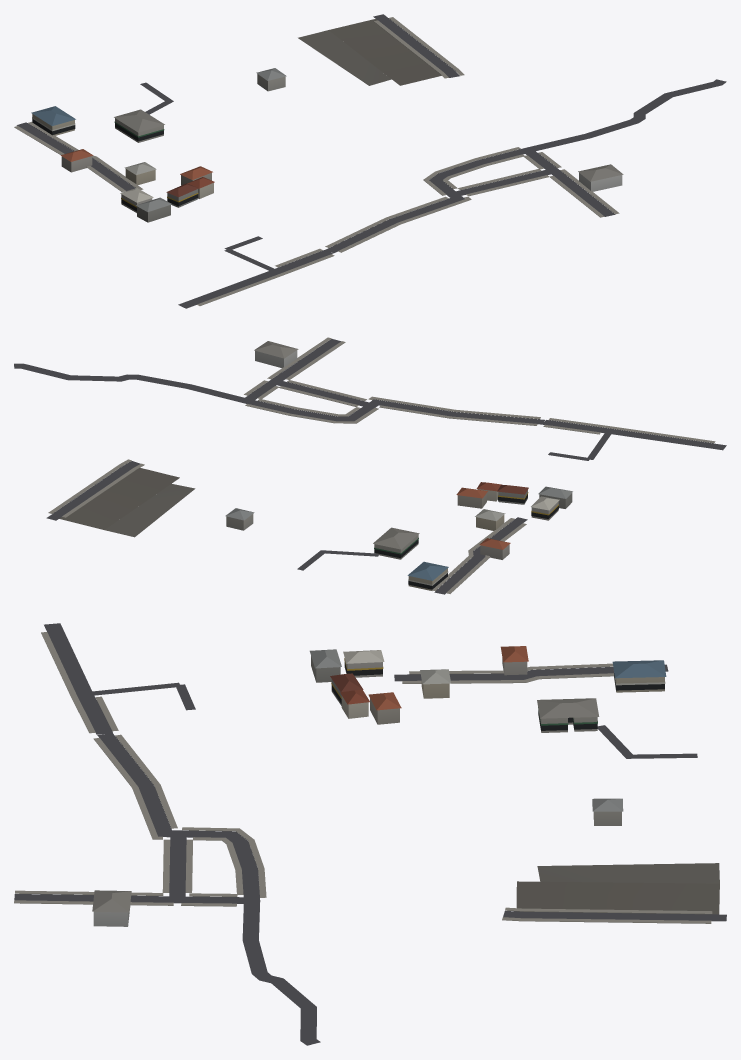
3 renders of one model, top to bottom at view 1: azimuth 30°, elevation 25°; view 2: azimuth 150°, elevation 25°; view 3: azimuth 270°, elevation 25°, orthographic. The views are drawn at different scales.
Visible parts, largest first — view 1: Roads_Minor__r-6c-11, Buildings__r-6c-11-col, Sidewalks__r-6c-11-col, Landuse__r-6c-11, Windows__r-6c-11; view 2: Roads_Minor__r-6c-11, Buildings__r-6c-11-col, Sidewalks__r-6c-11-col, Landuse__r-6c-11, Windows__r-6c-11; view 3: Roads_Minor__r-6c-11, Buildings__r-6c-11-col, Landuse__r-6c-11, Sidewalks__r-6c-11-col, Windows__r-6c-11.
Part boxes in pixels (x1,y1,x2,y2): Roads_Minor__r-6c-11: (16, 14, 726, 308); Buildings__r-6c-11-col: (31, 68, 623, 222); Sidewalks__r-6c-11-col: (14, 17, 619, 305); Landuse__r-6c-11: (298, 19, 441, 85); Windows__r-6c-11: (32, 117, 198, 211); Roads_Minor__r-6c-11: (14, 339, 726, 594); Buildings__r-6c-11-col: (225, 341, 572, 590); Sidewalks__r-6c-11-col: (48, 337, 715, 593); Landuse__r-6c-11: (59, 468, 195, 537); Windows__r-6c-11: (374, 492, 558, 589); Roads_Minor__r-6c-11: (14, 623, 726, 1045); Buildings__r-6c-11-col: (92, 646, 666, 926); Landuse__r-6c-11: (516, 863, 719, 914); Sidewalks__r-6c-11-col: (14, 632, 712, 923); Windows__r-6c-11: (331, 658, 665, 730).
Bounding box in the file's own units: 399 × 9 × 284.
